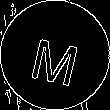M_N: (27, 25, 83, 85)
